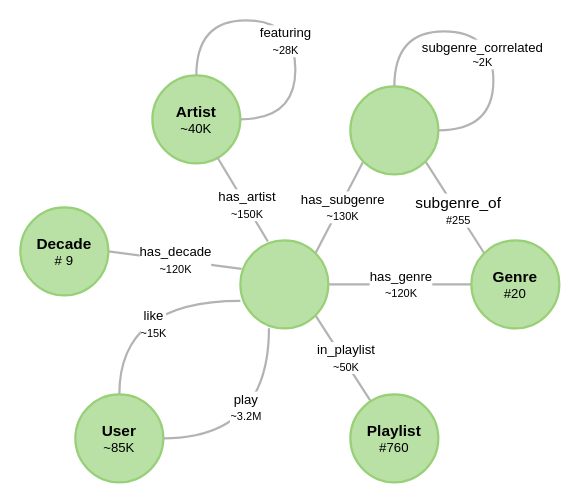
Some shapes in this 579 by 502 pixel diagram are drawn without their labels. The shapes that lost their labels are listed below. From the top down, each one's box as (x1, y1, x2, y2) in pixels, then its label:
(349, 85, 439, 175): Subgenre #255
(239, 239, 329, 329): Song ~120K
